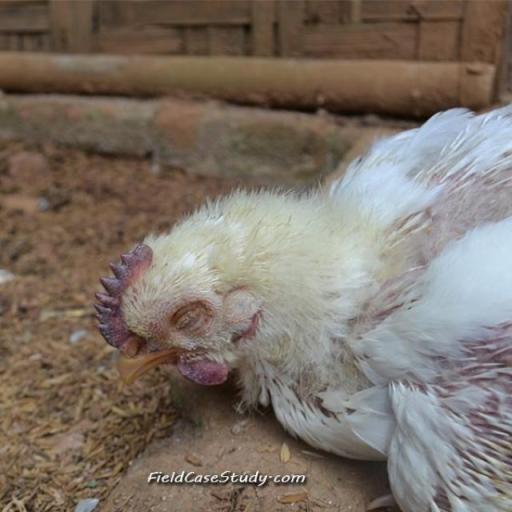disease: (143, 294, 278, 365)
